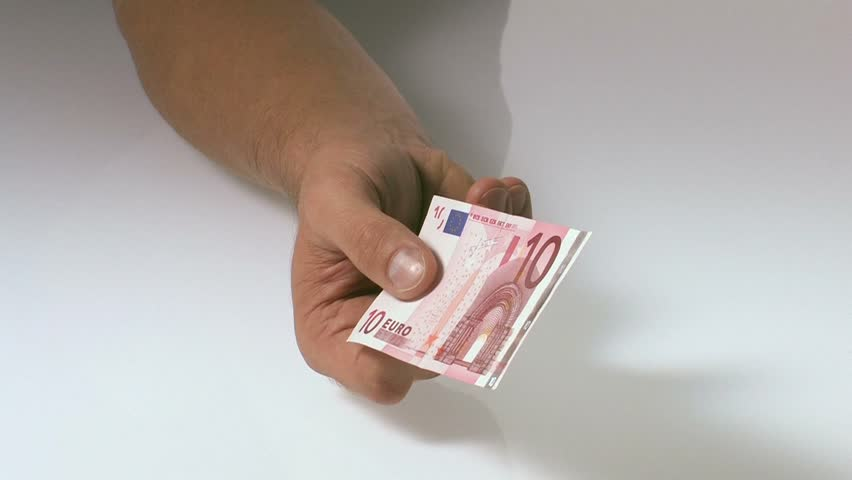billete: (343, 191, 595, 393)
